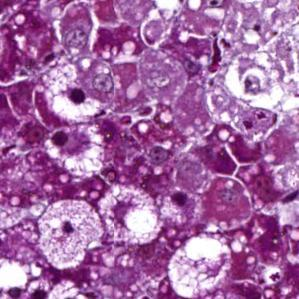ballooning: (37, 197, 108, 274), (167, 233, 234, 299), (43, 122, 109, 180)
